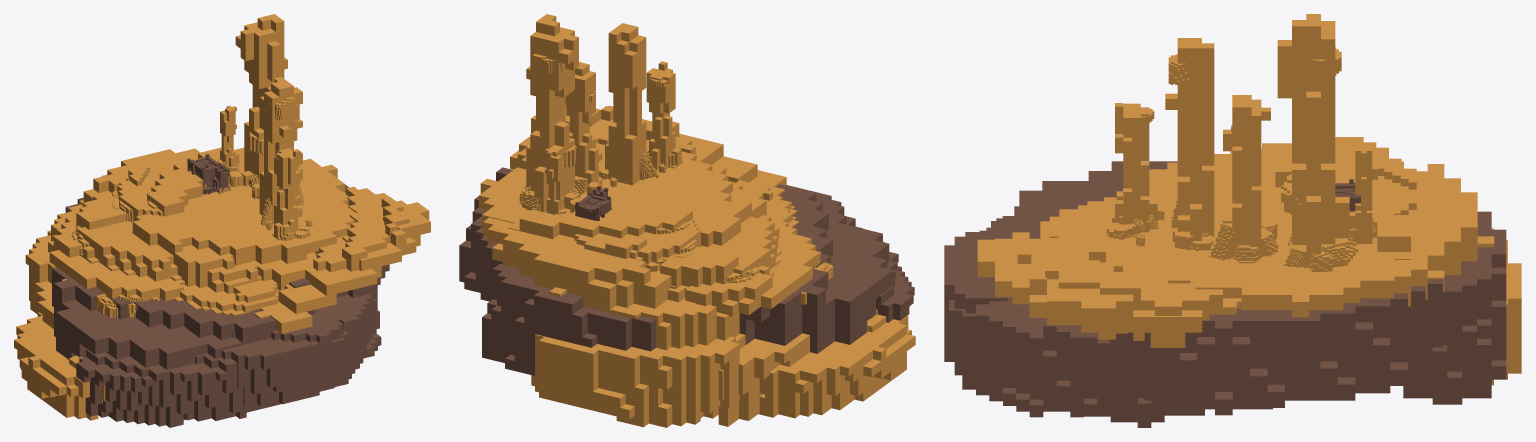
Rendered from voxel_Little Desert Town.glb.
3 renders of one model, left to right at view 1: azimuth 30°, elevation 25°; view 2: azimuth 150°, elevation 25°; view 3: azimuth 270°, elevation 25°, orthographic. The views are drawn at different scales.
Parts seen in each view (by area): view 1: group6901552, group646734; view 2: group6901552, group646734; view 3: group6901552, group646734.
Part boxes in pixels (<box>): group6901552: <box>14,14,430,420</box>; group646734: <box>52,154,389,427</box>; group6901552: <box>479,14,915,427</box>; group646734: <box>459,167,914,375</box>; group6901552: <box>977,14,1521,385</box>; group646734: <box>944,161,1506,427</box>.
Bounding box in the file's own units: 2.86 × 2.26 × 2.74.
